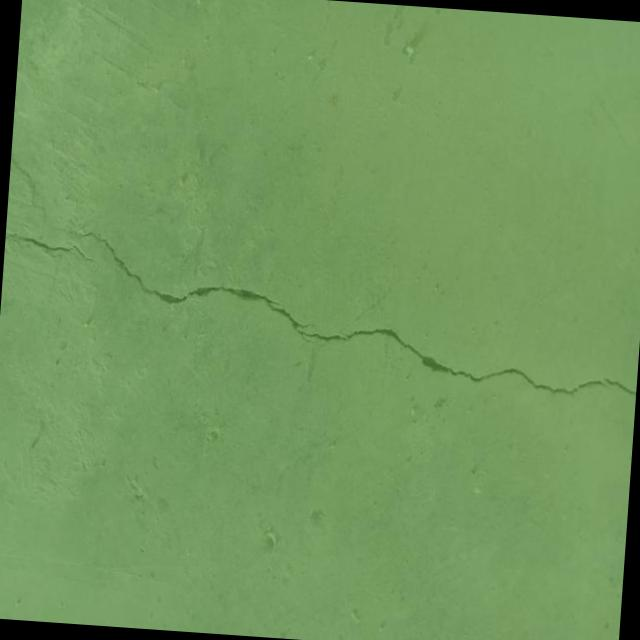crack: (70, 230, 640, 401), (3, 232, 108, 271)
